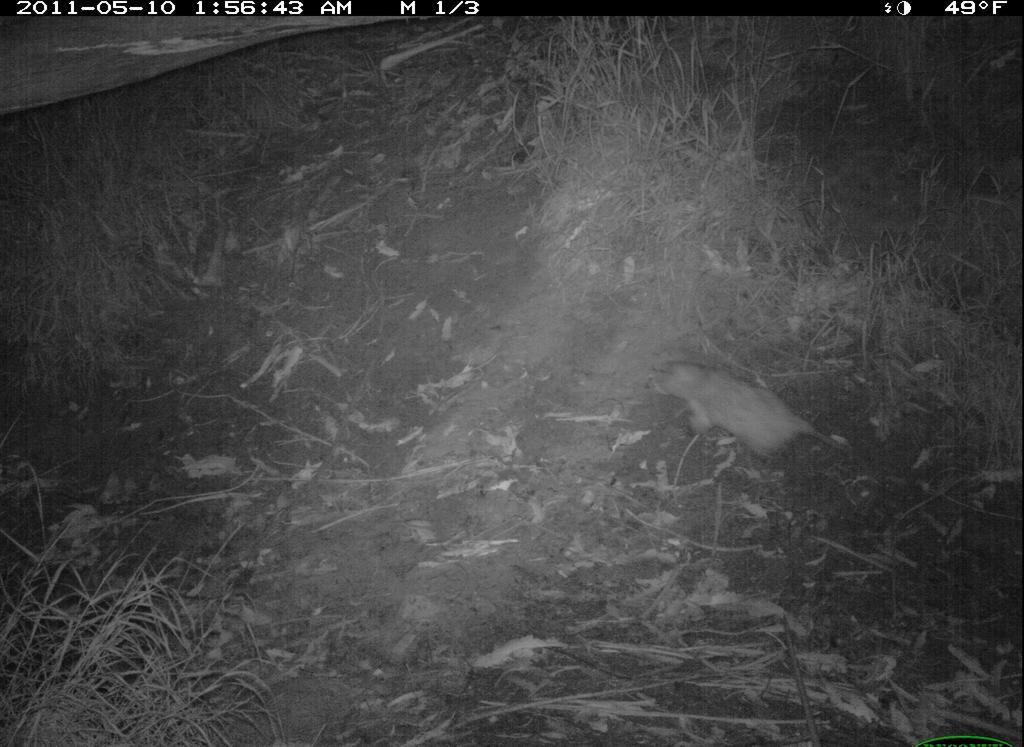opossum: (646, 345, 873, 500)
